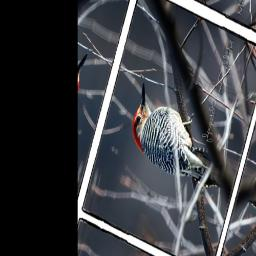Woodpecker: (120, 75, 223, 195)
